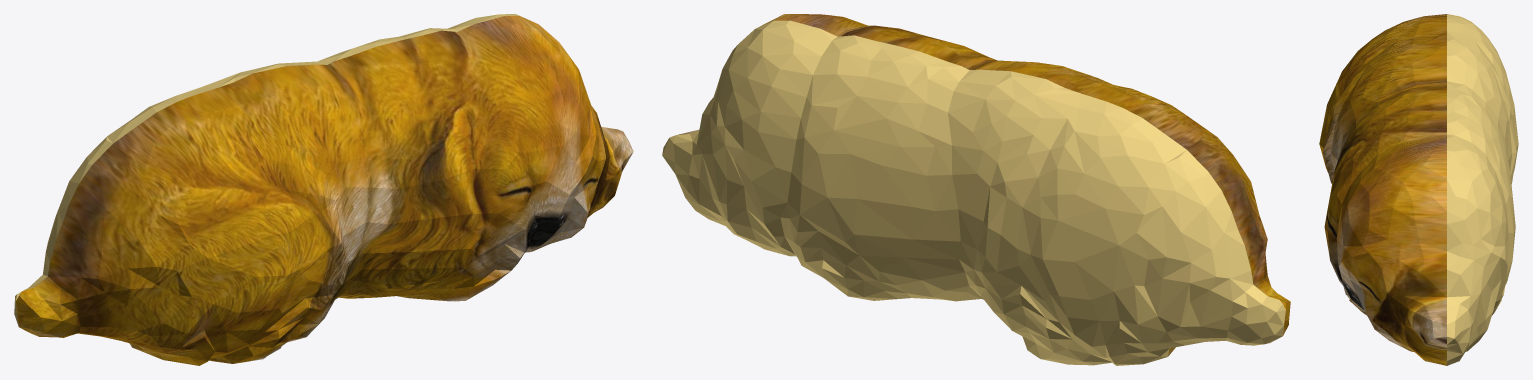
Rendered from Cachorro.gltf.
3 renders of one model, left to right at view 1: azimuth 30°, elevation 25°; view 2: azimuth 150°, elevation 25°; view 3: azimuth 270°, elevation 25°, orthographic. The views are drawn at different scales.
Parts seen in each view (by area): view 1: Mesh1 Component3_1 Component2_1 Component1_1 Component1 skpF, Mesh3 Component1_1 Component1 skpFA8_1 Model; view 2: Mesh3 Component1_1 Component1 skpFA8_1 Model, Mesh1 Component3_1 Component2_1 Component1_1 Component1 skpF; view 3: Mesh1 Component3_1 Component2_1 Component1_1 Component1 skpF, Mesh3 Component1_1 Component1 skpFA8_1 Model.
Part boxes in pixels (bbox=[...]): Mesh1 Component3_1 Component2_1 Component1_1 Component1 skpF: bbox=[16, 16, 633, 365]; Mesh3 Component1_1 Component1 skpFA8_1 Model: bbox=[14, 14, 613, 346]; Mesh3 Component1_1 Component1 skpFA8_1 Model: bbox=[662, 20, 1285, 365]; Mesh1 Component3_1 Component2_1 Component1_1 Component1 skpF: bbox=[676, 14, 1290, 356]; Mesh1 Component3_1 Component2_1 Component1_1 Component1 skpF: bbox=[1319, 14, 1446, 365]; Mesh3 Component1_1 Component1 skpFA8_1 Model: bbox=[1447, 14, 1518, 365].
Bounding box in the file's own units: 0.9 × 0.3826 × 0.2948.
3 materials, 1 textured.
